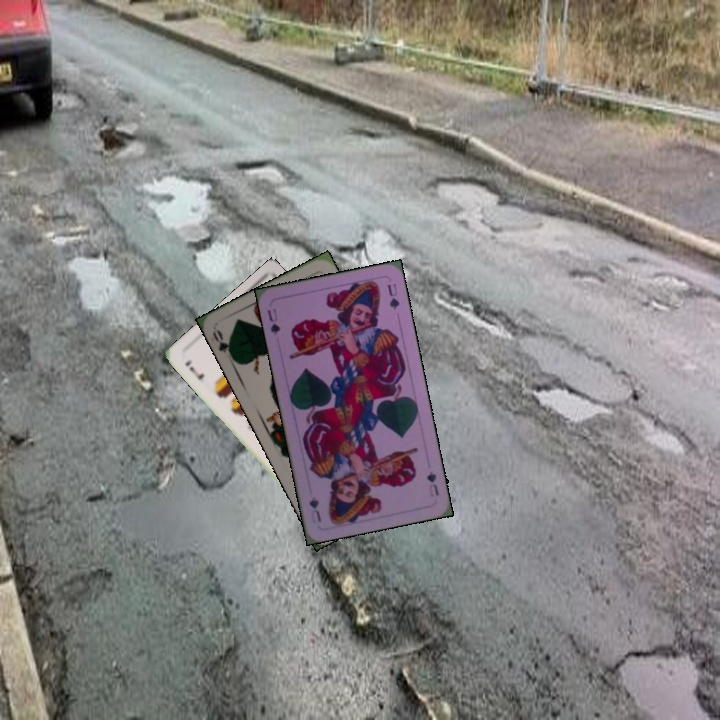E7: (181, 355, 207, 382)
GO: (209, 326, 236, 363)
GU: (263, 305, 283, 338), (423, 467, 441, 499)
